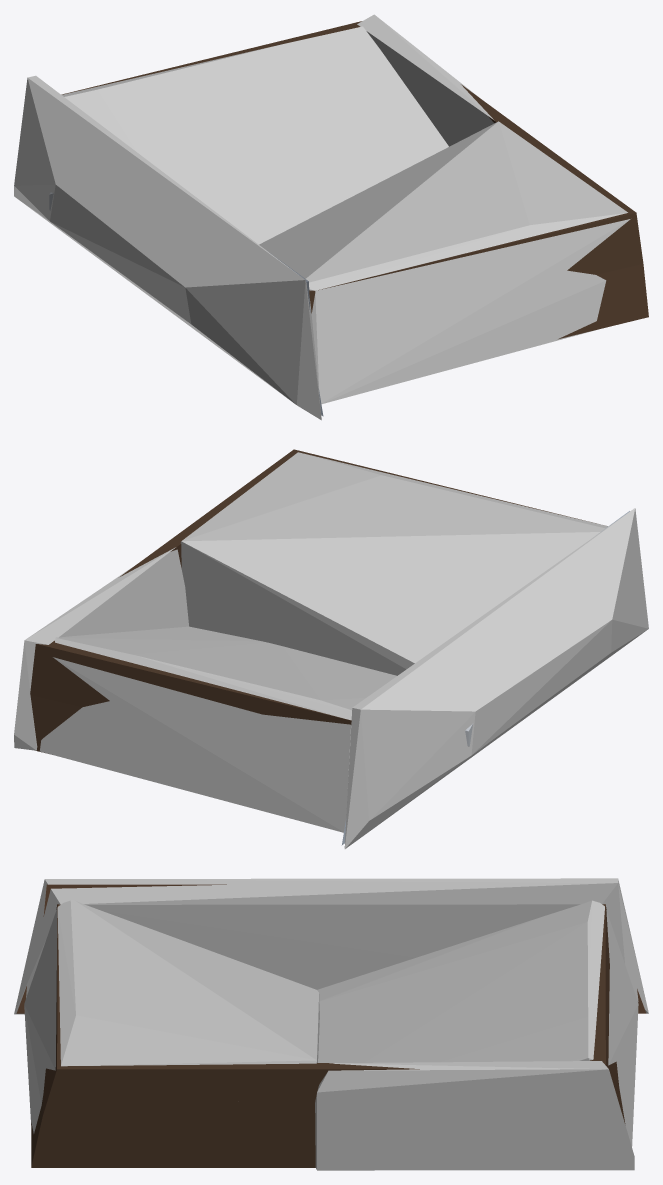
The model's file is SM_Prop_Drawer_01_Drawer_03.fbx.
3 renders of one model, top to bottom at view 1: azimuth 30°, elevation 25°; view 2: azimuth 150°, elevation 25°; view 3: azimuth 270°, elevation 25°, orthographic. The views are drawn at different scales.
Parts seen in each view (by area): view 1: SM_Prop_Drawer_01_Drawer_03_ConvexHulls, SM_Prop_Drawer_01_Drawer_03; view 2: SM_Prop_Drawer_01_Drawer_03_ConvexHulls, SM_Prop_Drawer_01_Drawer_03; view 3: SM_Prop_Drawer_01_Drawer_03_ConvexHulls, SM_Prop_Drawer_01_Drawer_03.
Boxes of the visible parts, x1,y1,x2,y2 form: SM_Prop_Drawer_01_Drawer_03_ConvexHulls: (14,14,630,420); SM_Prop_Drawer_01_Drawer_03: (49,21,648,416); SM_Prop_Drawer_01_Drawer_03_ConvexHulls: (14,452,648,848); SM_Prop_Drawer_01_Drawer_03: (30,449,629,845); SM_Prop_Drawer_01_Drawer_03_ConvexHulls: (14,878,648,1170); SM_Prop_Drawer_01_Drawer_03: (16,884,646,1167).
Bounding box in the file's own units: 60.99 × 83.08 × 19.45.
Materials: 2 (1 with a texture image).
